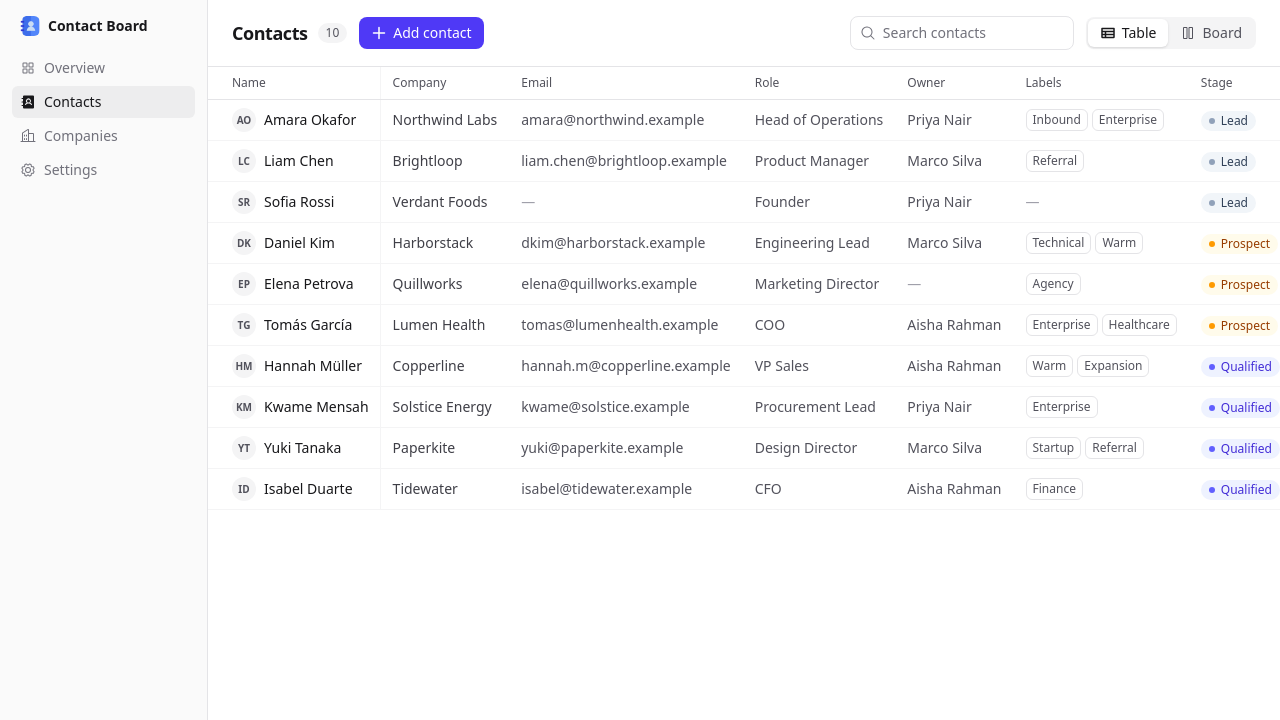
Test: drawer (below 1280px) › the new-contact form is also a modal drawer with a backdrop
Click the button "Add contact".
click(421, 33)  # box [359,17,484,49]
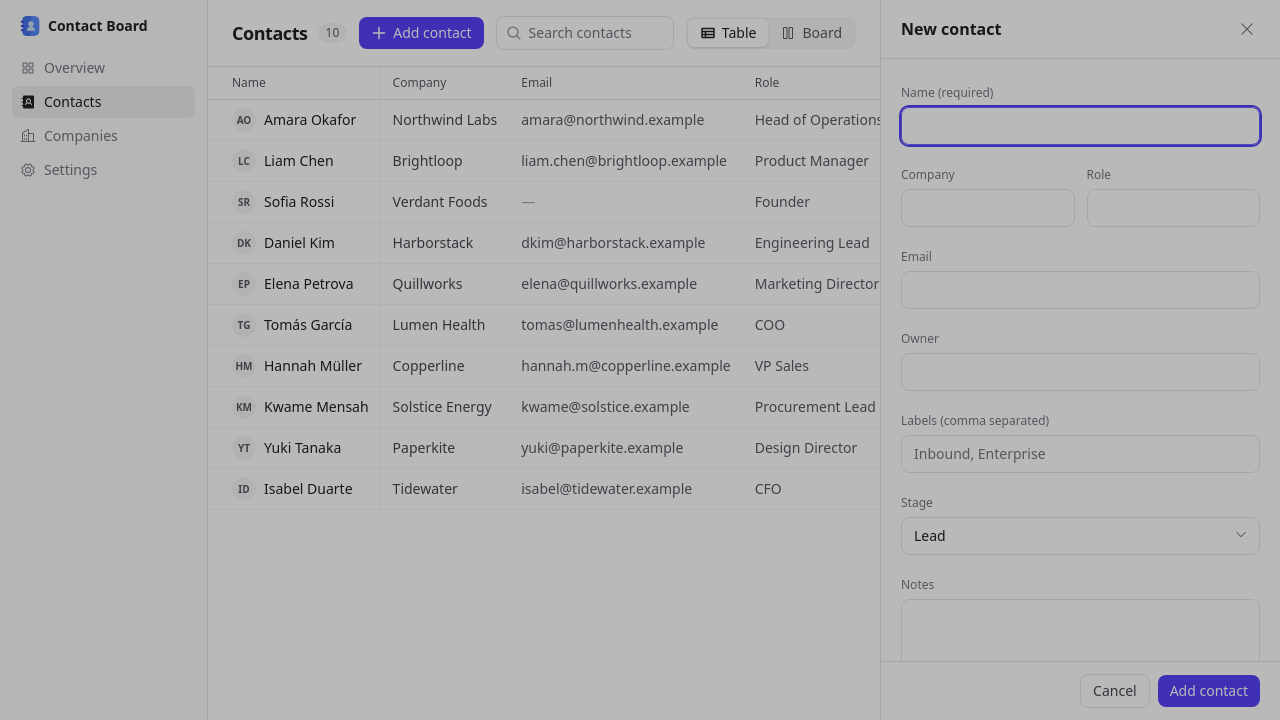
Expected: the element with class "inset-0" is shown
Press Escape
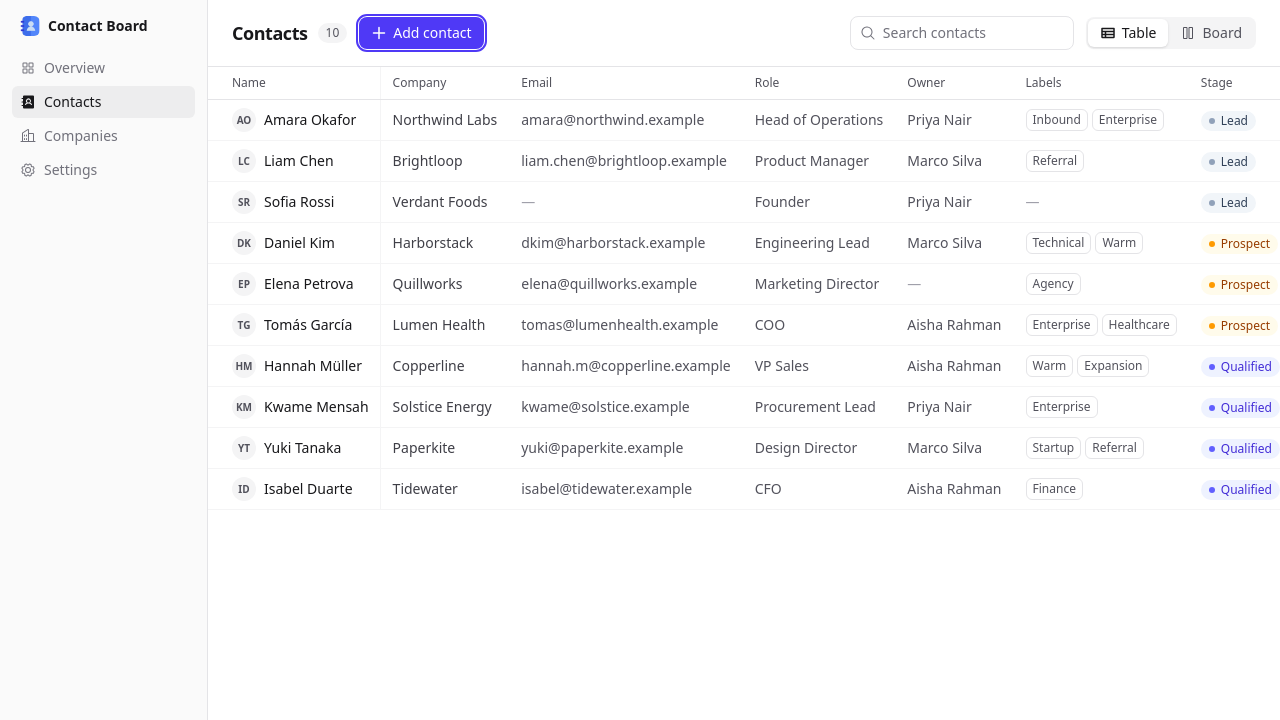
Expected: the dialog is gone
